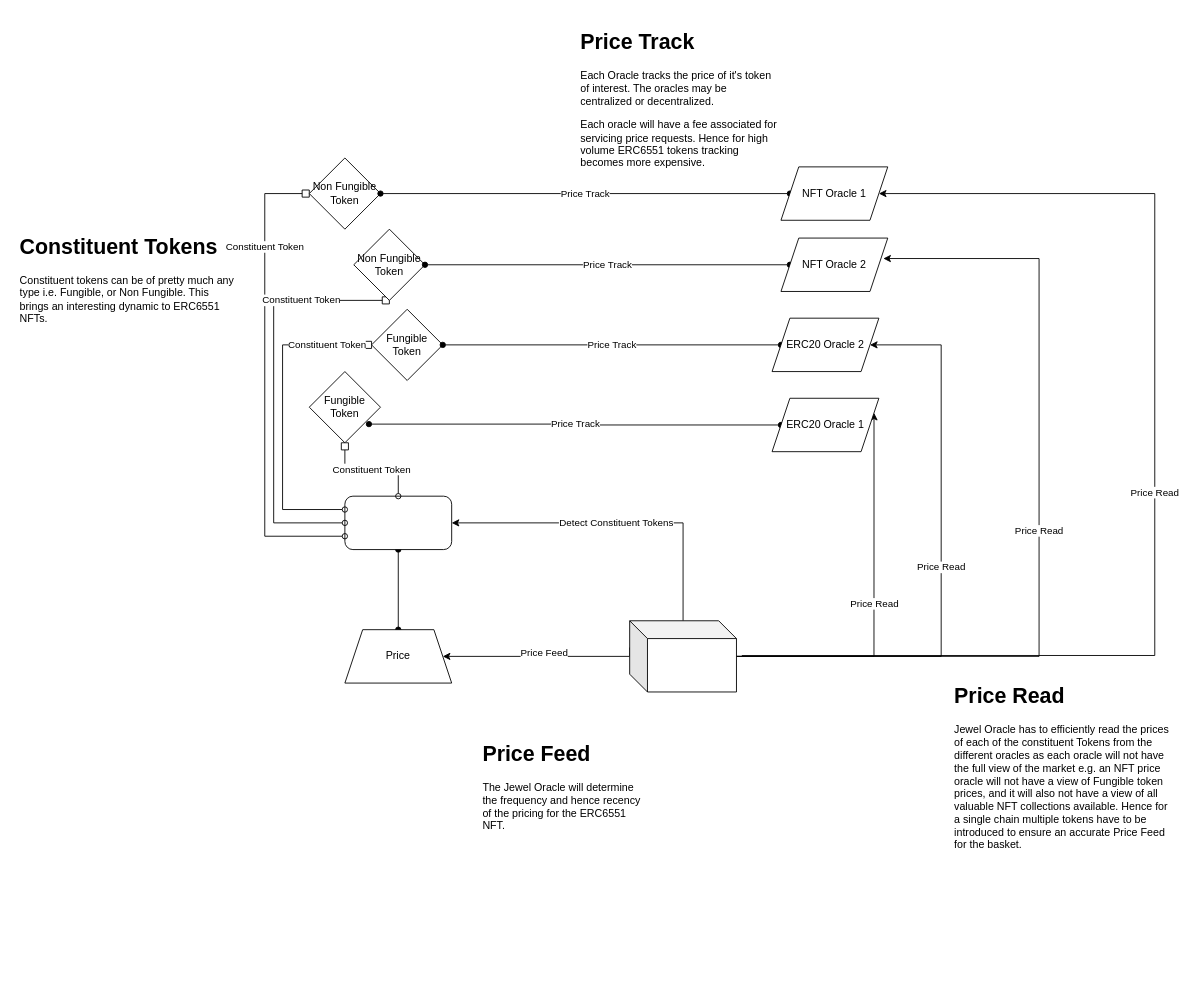
Image size: 1193x991. Some labels were removed from this diagram. Here are the shapes that lost their labels. From the top down, the box of each, then its label:
(344, 495, 452, 550): ERC6551 NFT
(629, 620, 736, 692): Jewel Oracle
